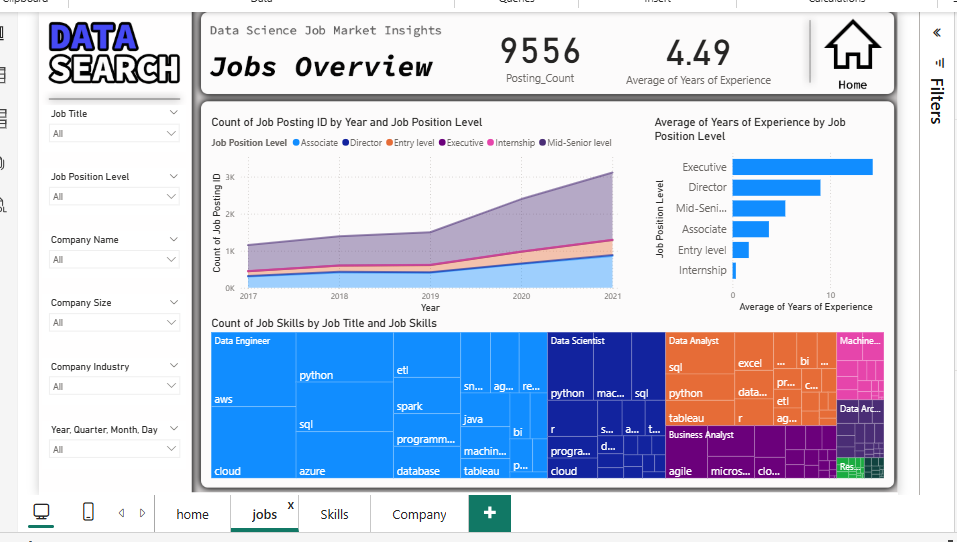

The dashboard page shown, as its layout file describes it:
{"tool":"powerbi","page":{"name":"jobs","canvas":[1280,720],"ordinal":1},"visuals":[{"type":"barChart","fields":{"Category":["job_postings.Job Position Level"],"Y":["Avg(job_postings.Years of Experience)"]},"box":[912.3,154.7,352.5,298.3],"z":0},{"type":"slicer","fields":{"Values":["job_postings.Job Title"]},"box":[4.5,138.7,215,70],"z":1000},{"type":"stackedAreaChart","fields":{"Category":["job_postings.Job Posting Date.Variation.Date Hierarchy.Year","job_postings.Job Posting Date.Variation.Date Hierarchy.Month"],"Series":["job_postings.Job Position Level"],"Y":["CountNonNull(job_postings.Job Posting ID)"]},"box":[251.4,154.5,621.2,299.1],"z":2000},{"type":"treemap","fields":{"Group":["job_postings.Job Title"],"Values":["CountNonNull(job_skills.Job Skills)"],"Details":["job_skills.Job Skills"]},"box":[252,453,1012.8,247.2],"z":3000},{"type":"slicer","fields":{"Values":["job_postings.Company Name"]},"box":[4.5,327.4,215,70],"z":4000},{"type":"slicer","fields":{"Values":["job_postings.Job Position Level"]},"box":[4.5,233,215,70],"z":5000},{"type":"slicer","fields":{"Values":["job_postings.Company Size"]},"box":[4.8,421.8,215.3,68.6],"z":6000},{"type":"slicer","fields":{"Values":["job_postings.Company Industry"]},"box":[4.8,514.7,215.3,70.2],"z":7000},{"type":"slicer","fields":{"Values":["job_postings.Job Posting Date.Variation.Date Hierarchy.Year","job_postings.Job Posting Date.Variation.Date Hierarchy.Quarter","job_postings.Job Posting Date.Variation.Date Hierarchy.Month","job_postings.Job Posting Date.Variation.Date Hierarchy.Day"]},"box":[4.8,609.3,215.3,71.8],"z":8000},{"type":"card","fields":{"Values":["_measure.Posting_Count"]},"box":[639.6,0,215.3,121.2],"z":9000},{"type":"card","fields":{"Values":["Avg(job_postings.Years of Experience)"]},"box":[854.9,4.8,256.8,116.4],"z":10000},{"type":"image","box":[1165.1,0,98.6,97],"z":11000}]}

Visuals, with their boxes on the page's 1280x720 design canvas (x1, y1, x2, y2). These are canvas units, not pixel positions in the 957x542 screenshot, which may show the page scaled, cropped or inside an application window:
barChart - job_postings.Job Position Level x Avg(job_postings.Years of Experience): BBox(912, 155, 1265, 453)
slicer - job_postings.Job Title: BBox(4, 139, 220, 209)
stackedAreaChart - job_postings.Job Posting Date.Variation.Date Hierarchy.Year x job_postings.Job Posting Date.Variation.Date Hierarchy.Month: BBox(251, 154, 873, 454)
treemap - job_postings.Job Title x CountNonNull(job_skills.Job Skills): BBox(252, 453, 1265, 700)
slicer - job_postings.Company Name: BBox(4, 327, 220, 397)
slicer - job_postings.Job Position Level: BBox(4, 233, 220, 303)
slicer - job_postings.Company Size: BBox(5, 422, 220, 490)
slicer - job_postings.Company Industry: BBox(5, 515, 220, 585)
slicer - job_postings.Job Posting Date.Variation.Date Hierarchy.Year x job_postings.Job Posting Date.Variation.Date Hierarchy.Quarter: BBox(5, 609, 220, 681)
card - _measure.Posting_Count: BBox(640, 0, 855, 121)
card - Avg(job_postings.Years of Experience): BBox(855, 5, 1112, 121)
image: BBox(1165, 0, 1264, 97)
